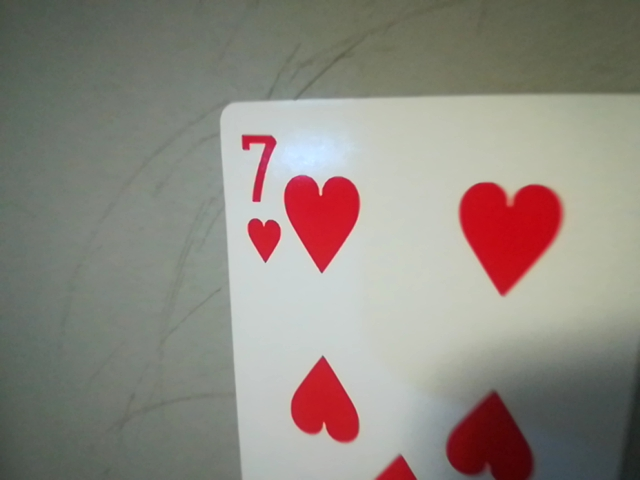hx 7: (225, 119, 283, 273)
